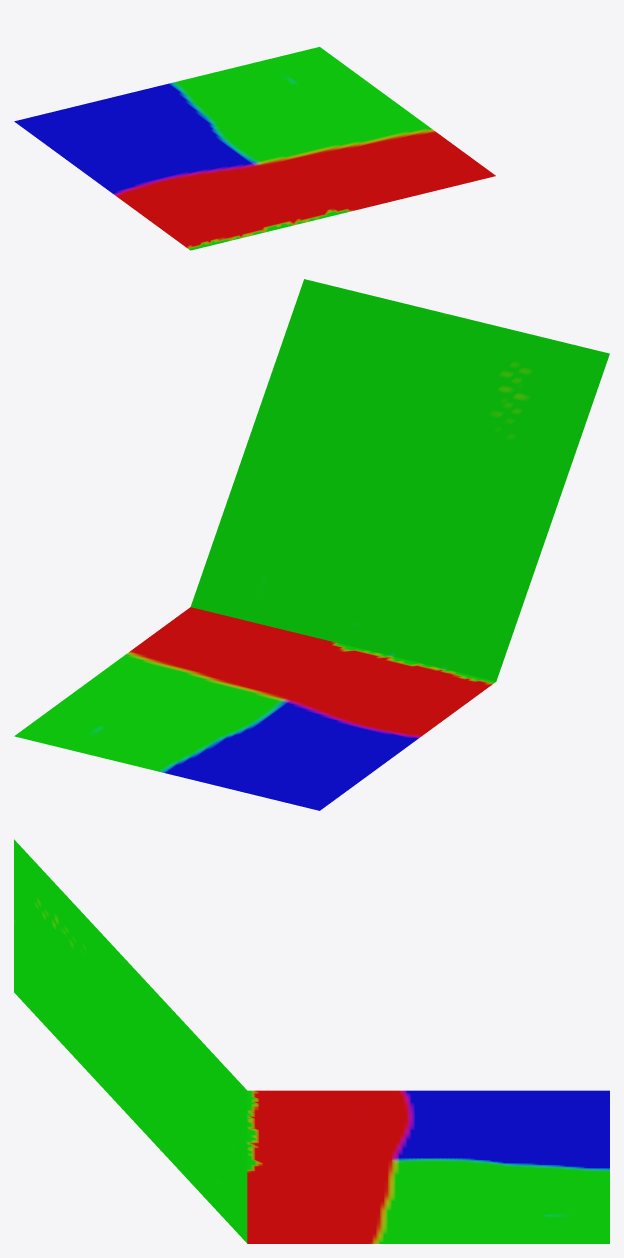
3 views of the same model, one above another, from view 1: azimuth 30°, elevation 25°; view 2: azimuth 150°, elevation 25°; view 3: azimuth 270°, elevation 25° (orthographic). The views are drawn at different scales.
Parts seen in each view (by area): view 1: Plane; view 2: Plane; view 3: Plane.
Boxes of the visible parts, box(x1,y1,x2,y2) form: Plane: box(14, 47, 495, 250); Plane: box(14, 279, 609, 810); Plane: box(14, 839, 609, 1243).
Bounding box in the file's own units: 20 × 15.3 × 32.88.
